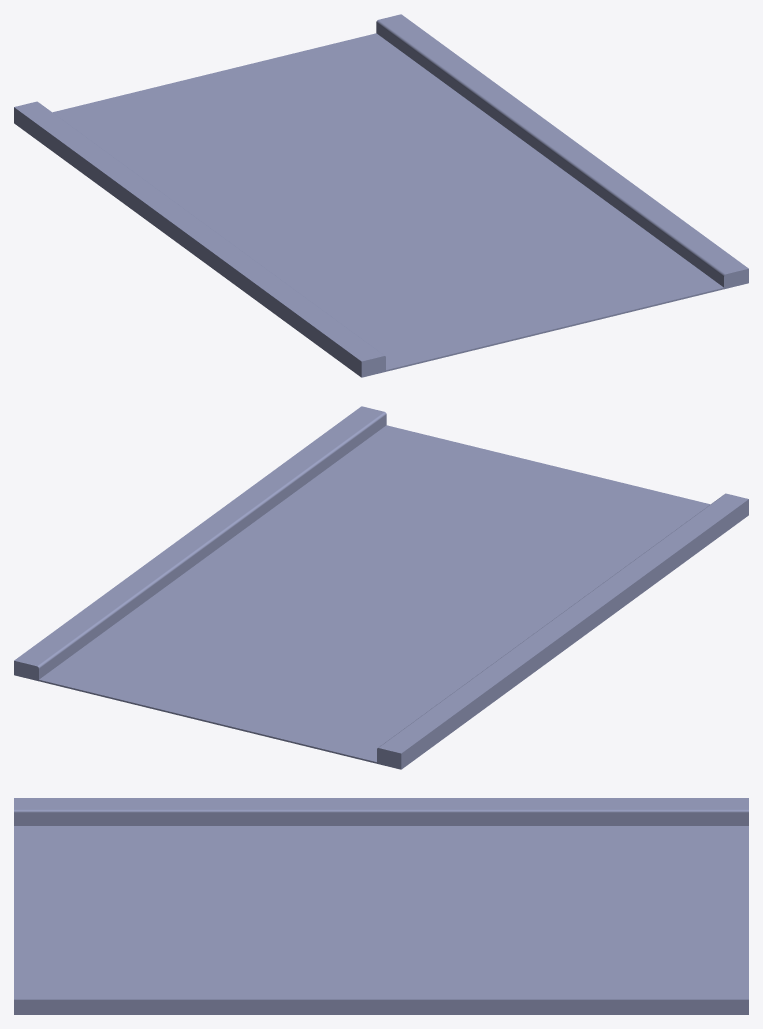
File: road.gltf
3 renders of one model, top to bottom at view 1: azimuth 30°, elevation 25°; view 2: azimuth 150°, elevation 25°; view 3: azimuth 270°, elevation 25°, orthographic. The views are drawn at different scales.
Parts seen in each view (by area): view 1: roadV2; view 2: roadV2; view 3: roadV2.
Boxes of the visible parts, <box> form: roadV2: <box>14,14,748,377</box>; roadV2: <box>14,406,748,769</box>; roadV2: <box>14,798,748,1014</box>.
Size of the model in its own units: 2.2 by 0.0881 by 3.42.
